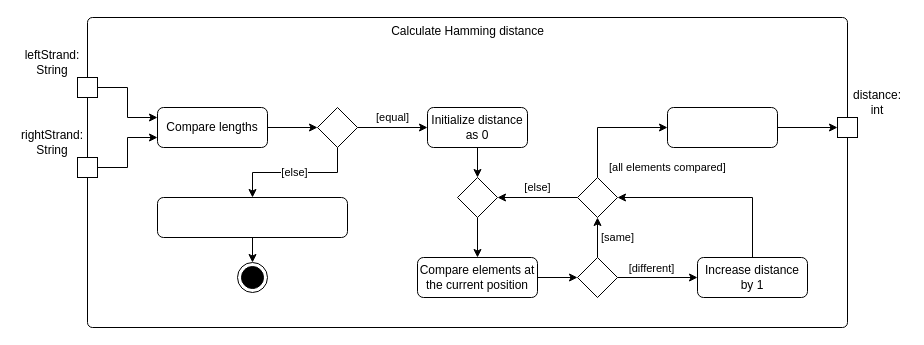
Image size: 924x345. Some labels were removed from this diagram. The shapes that lost their labels are listed below. From the top down, each one's box as (x1, y1, x2, y2) in pixels, then its label:
(666, 106, 778, 148): Return distance
(156, 196, 348, 238): Throw IllegalArgumentException
